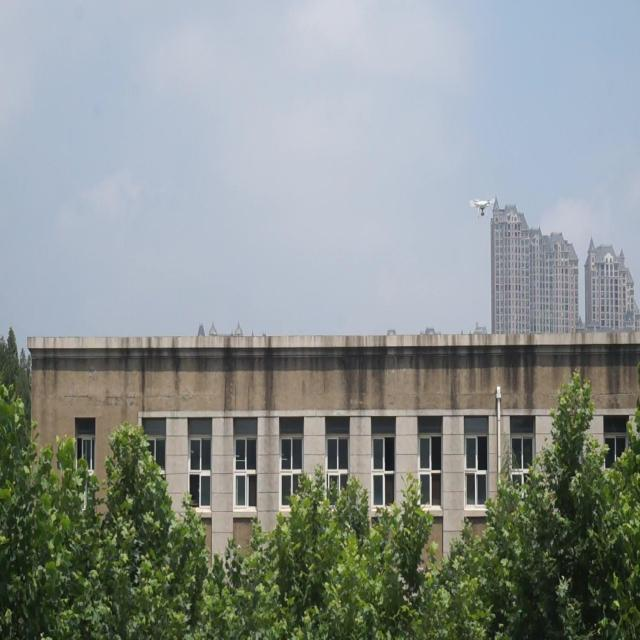drone: (468, 196, 494, 221)
